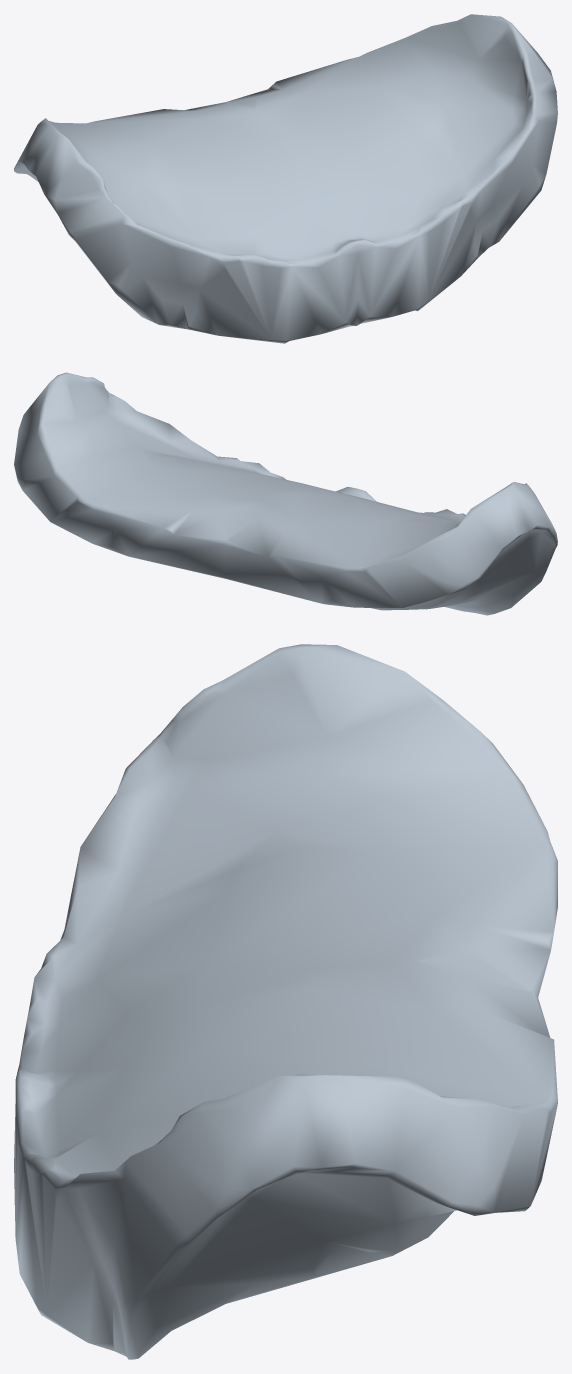
The model's file is intervertebral-disc-c5-c6.glb.
3 renders of one model, top to bottom at view 1: azimuth 30°, elevation 25°; view 2: azimuth 150°, elevation 25°; view 3: azimuth 270°, elevation 25°, orthographic. The views are drawn at different scales.
Parts seen in each view (by area): view 1: Intervertebral disc C5-C6; view 2: Intervertebral disc C5-C6; view 3: Intervertebral disc C5-C6.
Boxes of the visible parts, left/top/right/bottom form: Intervertebral disc C5-C6: left=14, top=14, right=557, bottom=343; Intervertebral disc C5-C6: left=14, top=372, right=557, bottom=615; Intervertebral disc C5-C6: left=14, top=644, right=557, bottom=1359.
Size of the model in its own units: 0.0313 by 0.0118 by 0.0149.
